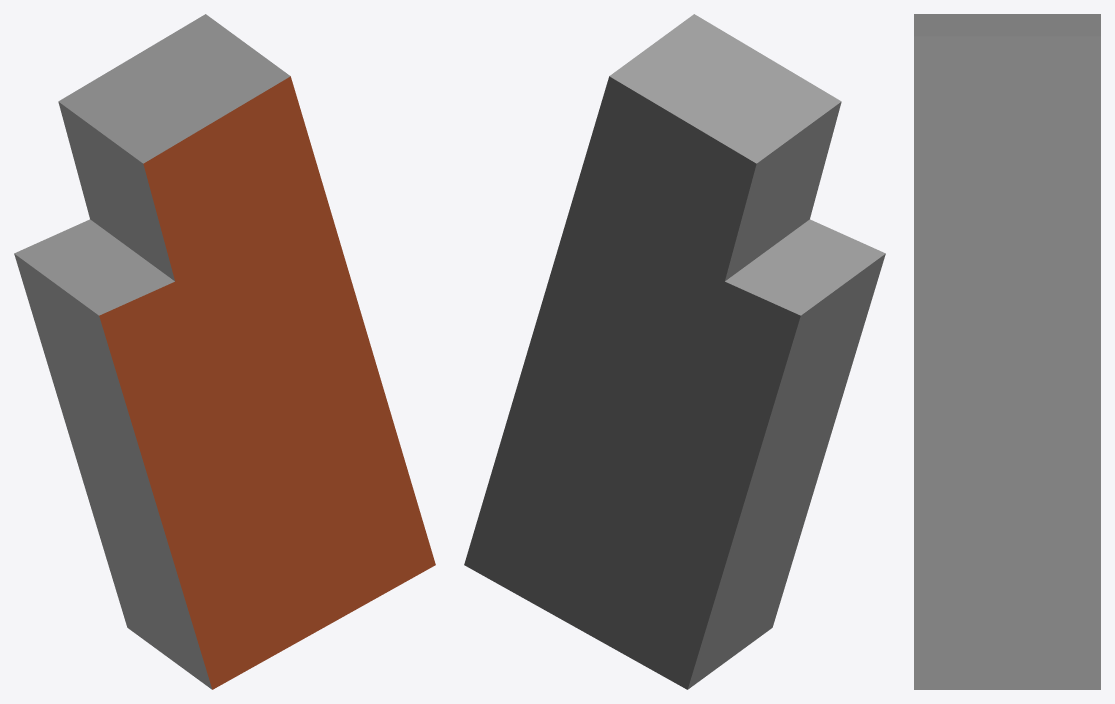
The model's file is construction_3425_assumed_A_Casa_h6m.obj.
3 views of the same model, side by side, from view 1: azimuth 30°, elevation 25°; view 2: azimuth 150°, elevation 25°; view 3: azimuth 270°, elevation 25° (orthographic). The views are drawn at different scales.
Visible parts, largest first — view 1: construction_3425_assumed_A_Casa; view 2: construction_3425_assumed_A_Casa; view 3: construction_3425_assumed_A_Casa.
Part boxes in pixels (bbox=[...]): construction_3425_assumed_A_Casa: bbox=[14, 14, 435, 689]; construction_3425_assumed_A_Casa: bbox=[464, 14, 885, 689]; construction_3425_assumed_A_Casa: bbox=[914, 14, 1100, 689].
Size of the model in its own units: 13.72 by 23.14 by 6.
